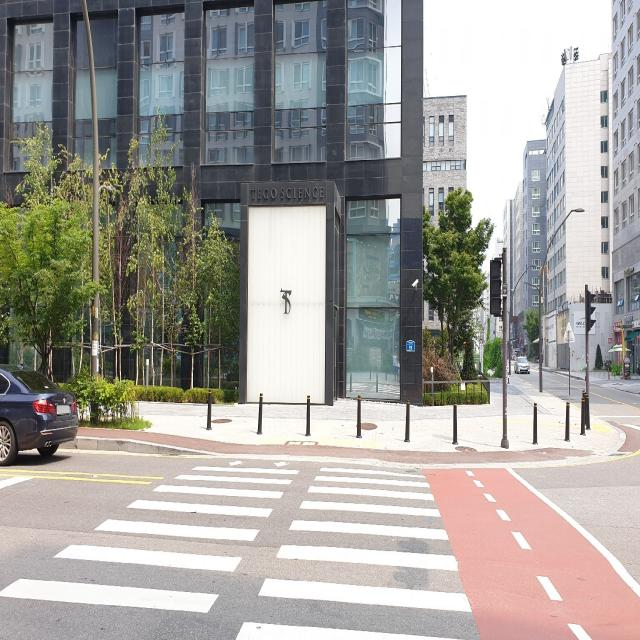횡단보도: (0, 458, 474, 640)
